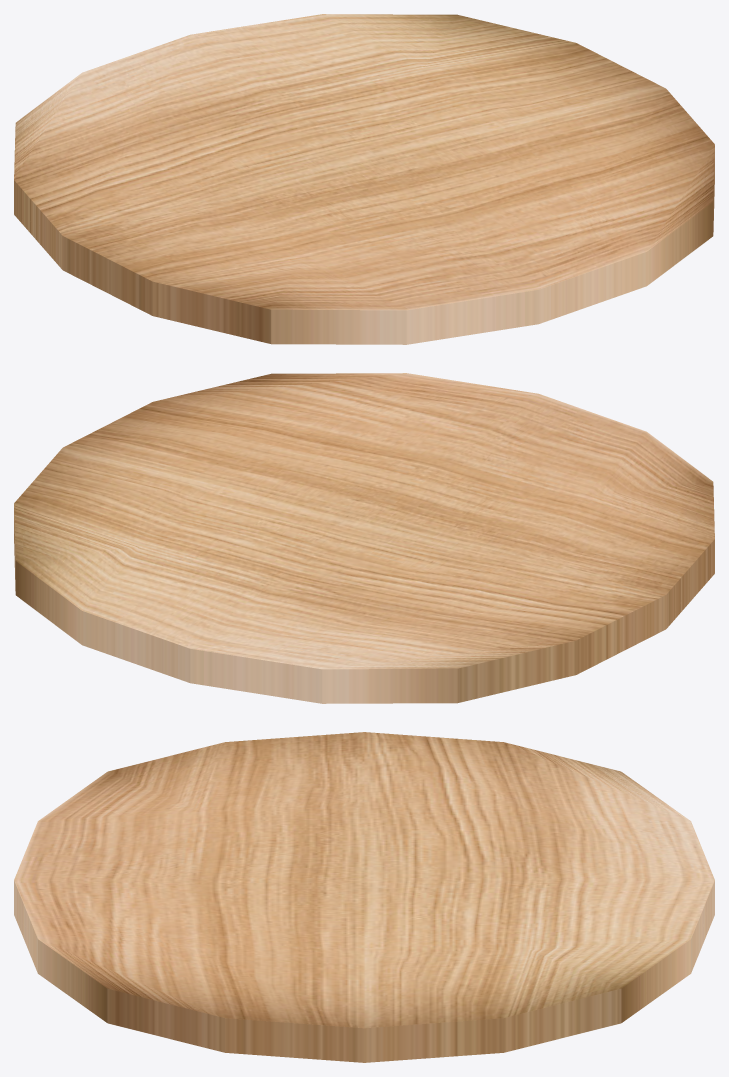
File: platform.glb
3 renders of one model, top to bottom at view 1: azimuth 30°, elevation 25°; view 2: azimuth 150°, elevation 25°; view 3: azimuth 270°, elevation 25°, orthographic.
Parts seen in each view (by area): view 1: Plane; view 2: Plane; view 3: Plane.
Boxes of the visible parts, x1=… form: Plane: x1=14, y1=14, x2=714, y2=344; Plane: x1=14, y1=373, x2=714, y2=703; Plane: x1=14, y1=732, x2=714, y2=1062.
Size of the model in its own units: 1.83 by 0.1 by 1.83.
1 material, 1 textured.
